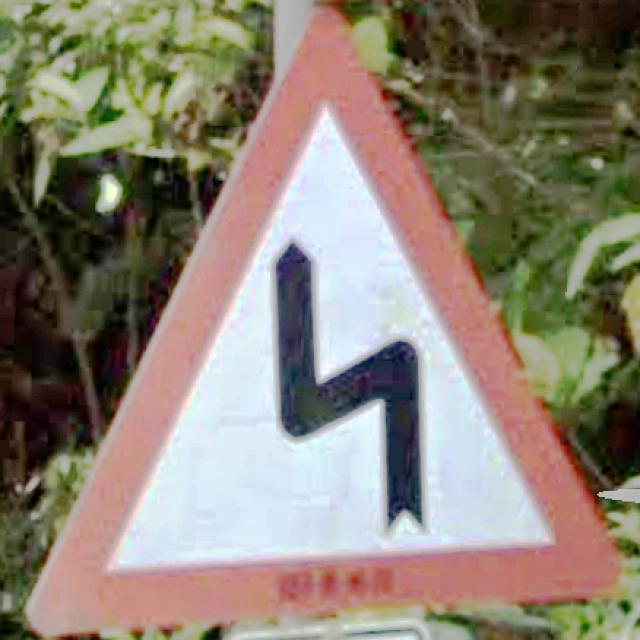doublebendleft: (28, 9, 624, 640)
